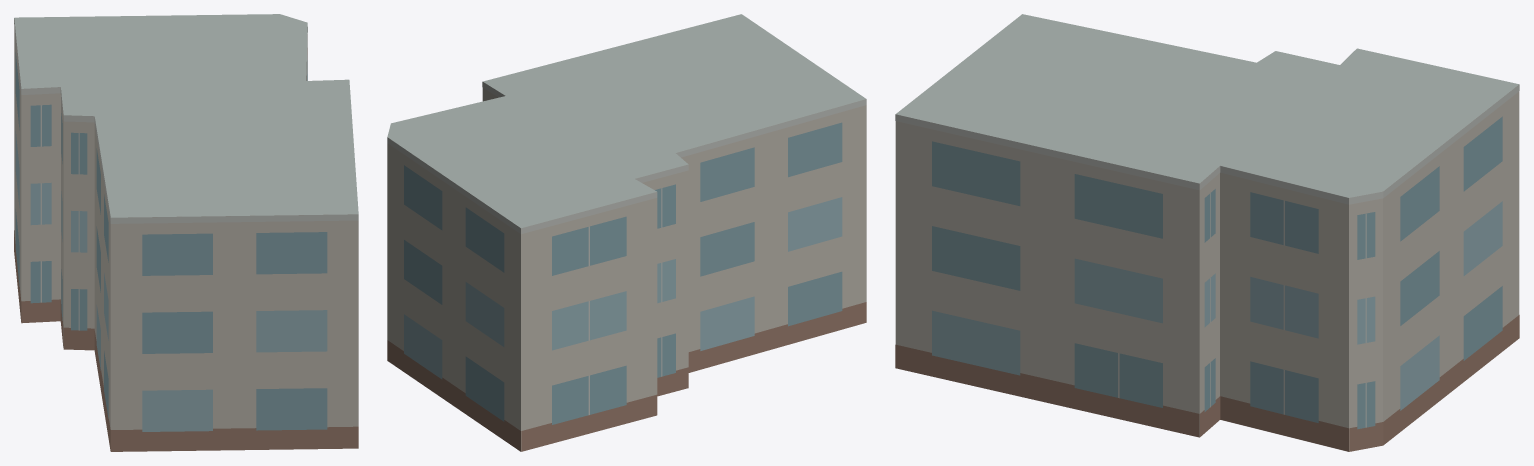
Rendered from survey-upis-32644571.glb.
3 renders of one model, left to right at view 1: azimuth 30°, elevation 25°; view 2: azimuth 150°, elevation 25°; view 3: azimuth 270°, elevation 25°, orthographic. The views are drawn at different scales.
Visible parts, largest first — view 1: survey-upis-32644571.tmp; view 2: survey-upis-32644571.tmp; view 3: survey-upis-32644571.tmp.
Boxes of the visible parts, left/top/right/bottom form: survey-upis-32644571.tmp: left=14, top=14, right=358, bottom=451; survey-upis-32644571.tmp: left=387, top=14, right=866, bottom=451; survey-upis-32644571.tmp: left=895, top=14, right=1519, bottom=451.
Bounding box in the file's own units: 14.22 × 9.15 × 20.39.
